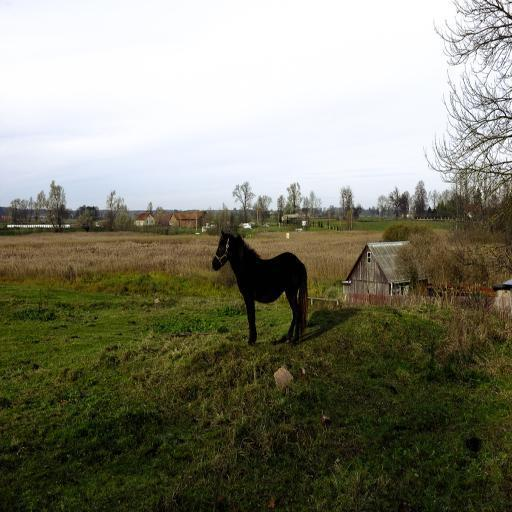horse: (213, 232, 307, 347)
